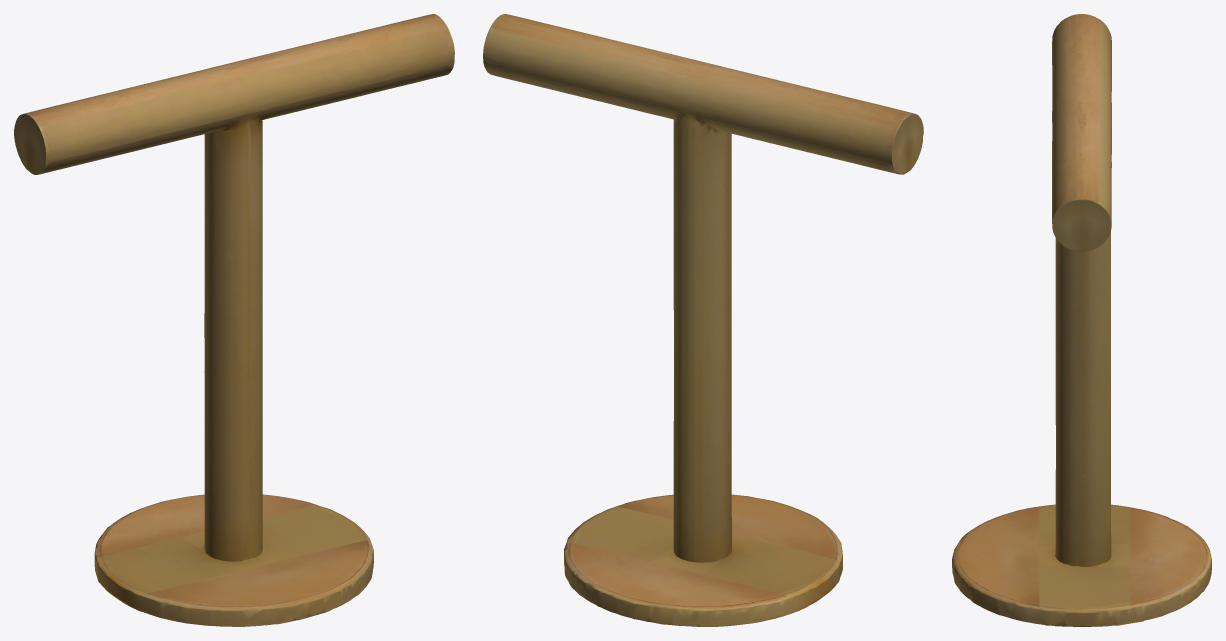
3 views of the same model, side by side, from view 1: azimuth 30°, elevation 25°; view 2: azimuth 150°, elevation 25°; view 3: azimuth 270°, elevation 25° (orthographic). The views are drawn at different scales.
Parts seen in each view (by area): view 1: Bird perch; view 2: Bird perch; view 3: Bird perch.
Boxes of the visible parts, left/top/right/bottom form: Bird perch: left=14, top=14, right=454, bottom=626; Bird perch: left=483, top=14, right=923, bottom=626; Bird perch: left=952, top=14, right=1211, bottom=626.
Size of the model in its own units: 1.7 by 2 by 1.01.
Materials: 1 (1 with a texture image).
